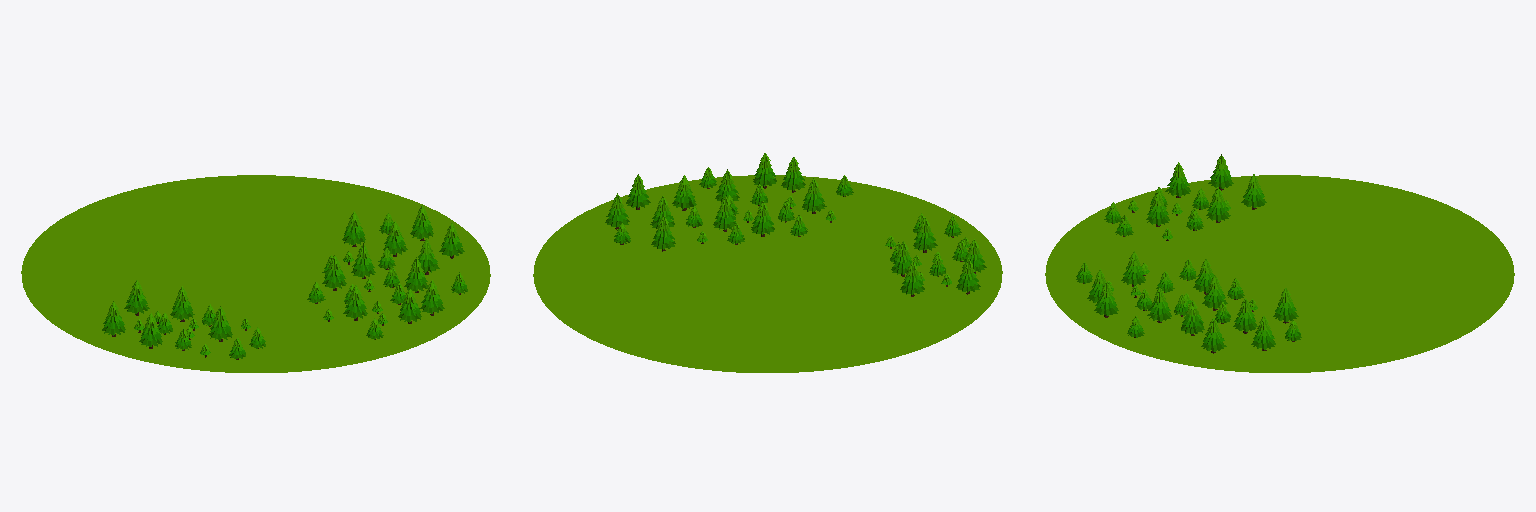
Rendered from terrain-forest.obj.
3 renders of one model, left to right at view 1: azimuth 30°, elevation 25°; view 2: azimuth 150°, elevation 25°; view 3: azimuth 270°, elevation 25°, orthographic.
Visible parts, largest first — view 1: chao_Cone.002; view 2: chao_Cone.002; view 3: chao_Cone.002.
Part boxes in pixels (x1,y1,x2,y2): chao_Cone.002: (21,175,490,372); chao_Cone.002: (533,175,1002,372); chao_Cone.002: (1045,175,1514,372).
Bounding box in the file's own units: 58 × 4.98 × 58.